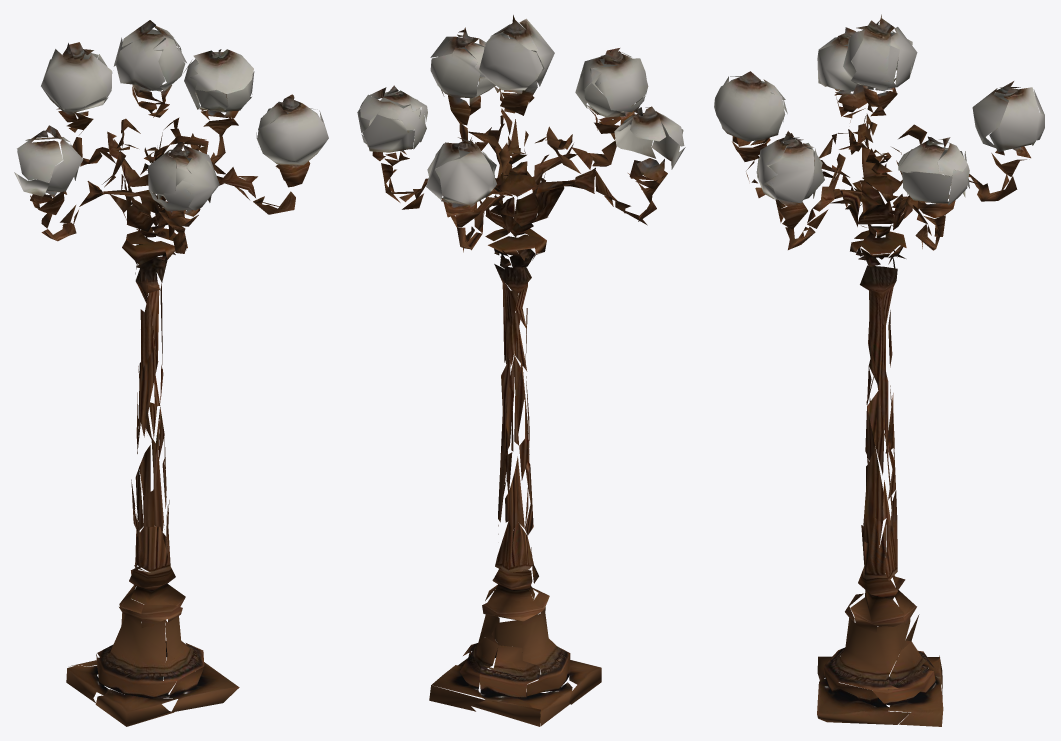
The model's file is penn_lamp.glb.
3 renders of one model, left to right at view 1: azimuth 30°, elevation 25°; view 2: azimuth 150°, elevation 25°; view 3: azimuth 270°, elevation 25°, orthographic.
Parts seen in each view (by area): view 1: tripo_node_993a0911-d772-47ab-ae7f-9a399ea19fe4; view 2: tripo_node_993a0911-d772-47ab-ae7f-9a399ea19fe4; view 3: tripo_node_993a0911-d772-47ab-ae7f-9a399ea19fe4.
Part boxes in pixels (box(x1,y1,x2,y2)): tripo_node_993a0911-d772-47ab-ae7f-9a399ea19fe4: box(14, 20, 328, 726); tripo_node_993a0911-d772-47ab-ae7f-9a399ea19fe4: box(357, 15, 685, 726); tripo_node_993a0911-d772-47ab-ae7f-9a399ea19fe4: box(714, 14, 1044, 726).
Bounding box in the file's own units: 0.4276 × 1 × 0.4395.
1 material, 1 textured.
